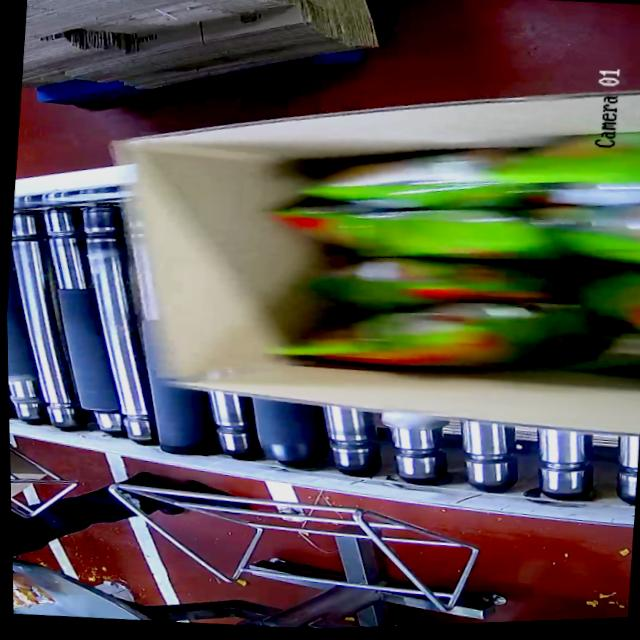YOGURT_HERB: (249, 109, 640, 387)
